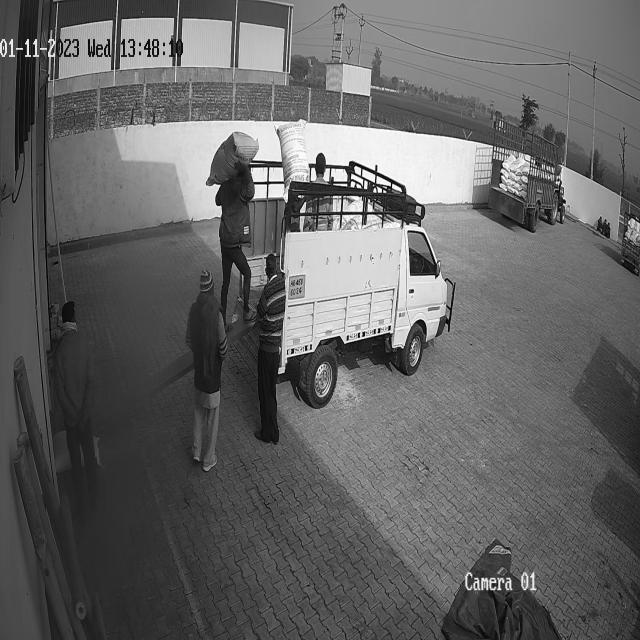sack: (205, 132, 259, 187)
